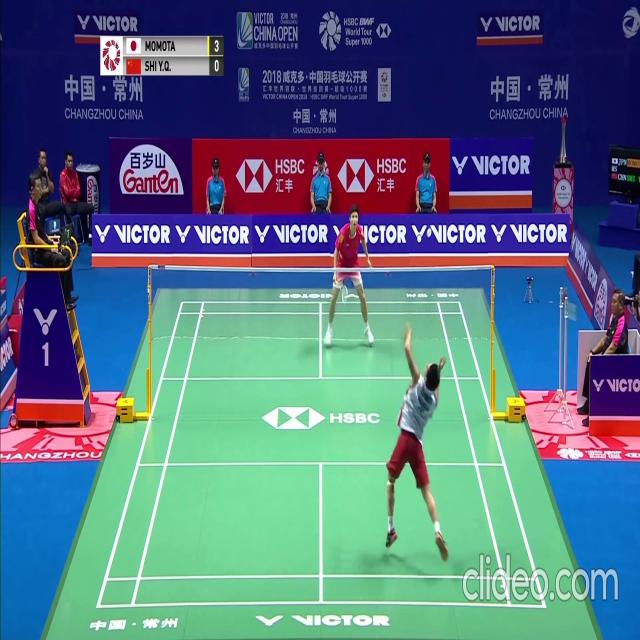Shuttlecock: (427, 229, 432, 236)
